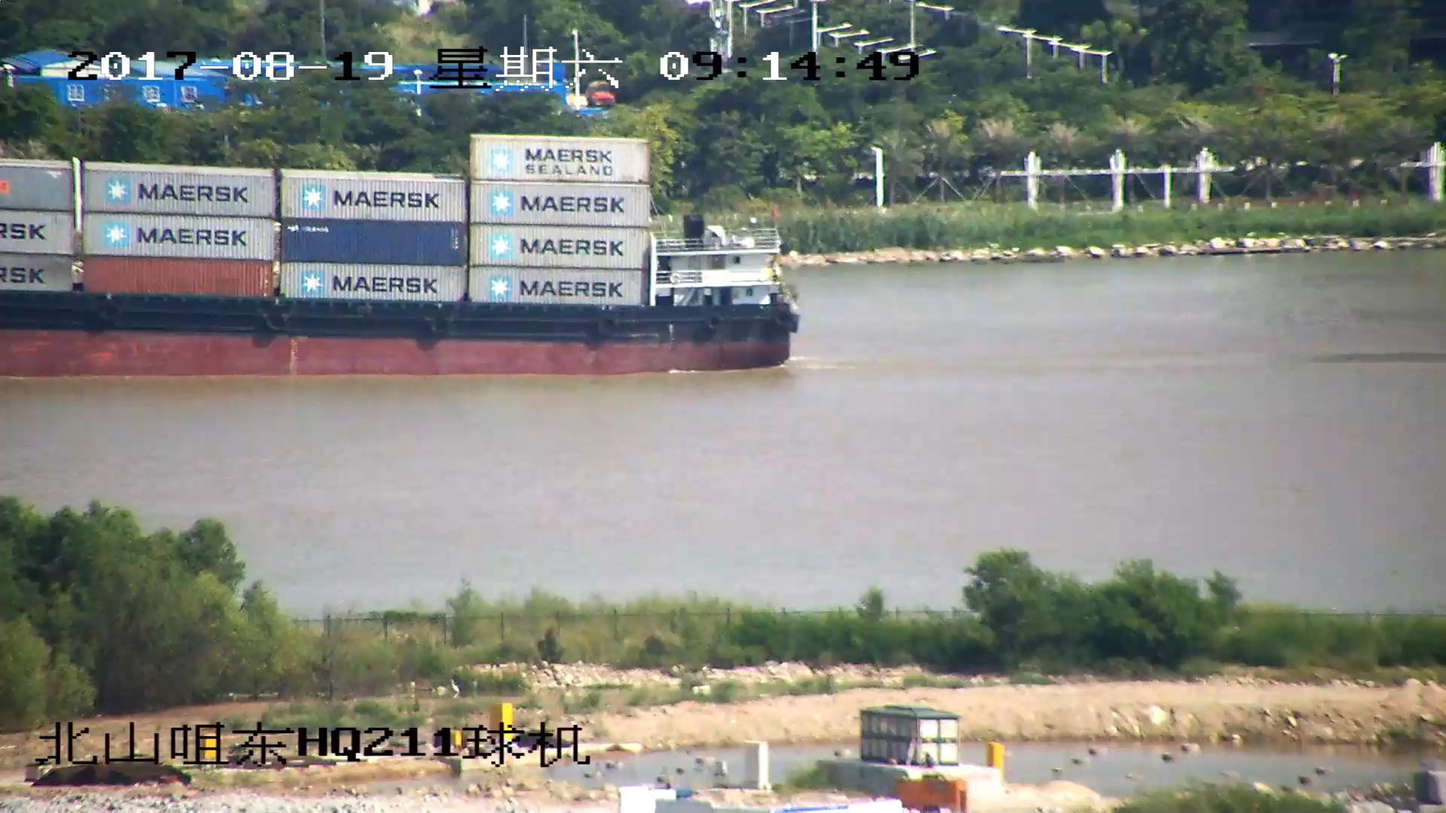container ship: (0, 130, 800, 378)
